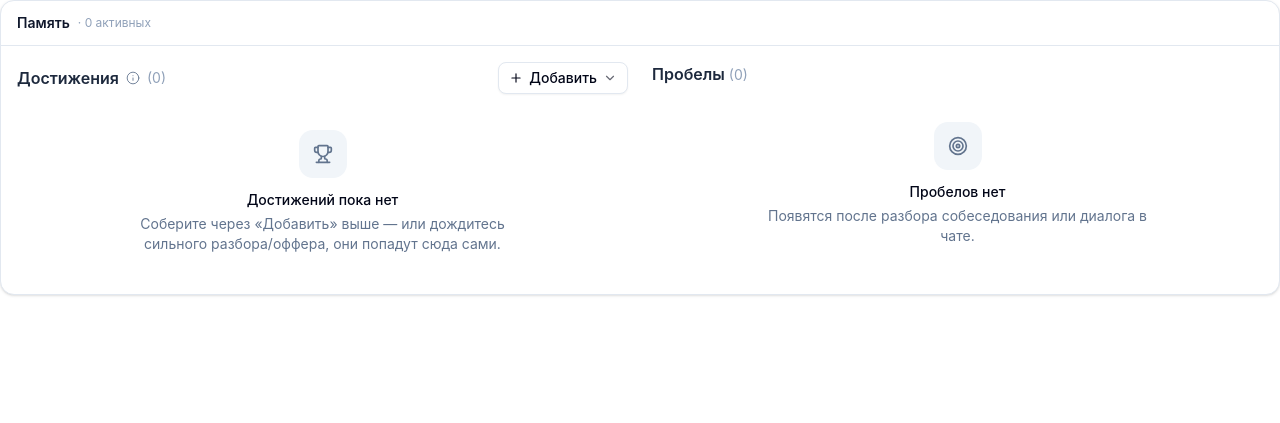
Test: FactsMemory (правка 2026-08-26: Достижения+Пробелы, без Заметок) › пункт меню «Из разбора» раскрывает форму разбора, «Отмена» её скрывает
The width and height of the screenshot is (1280, 423).
Step 1. Press Enter in the button "Добавить", box [498,62,628,94]
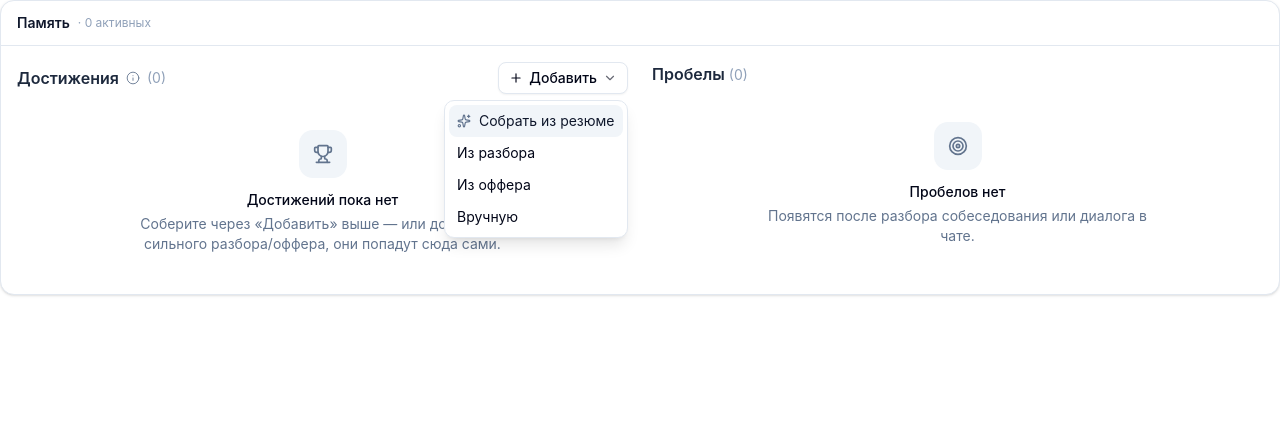
Step 2. Click the menu item "Из разбора" → [496, 152], box [457,144,535,161]
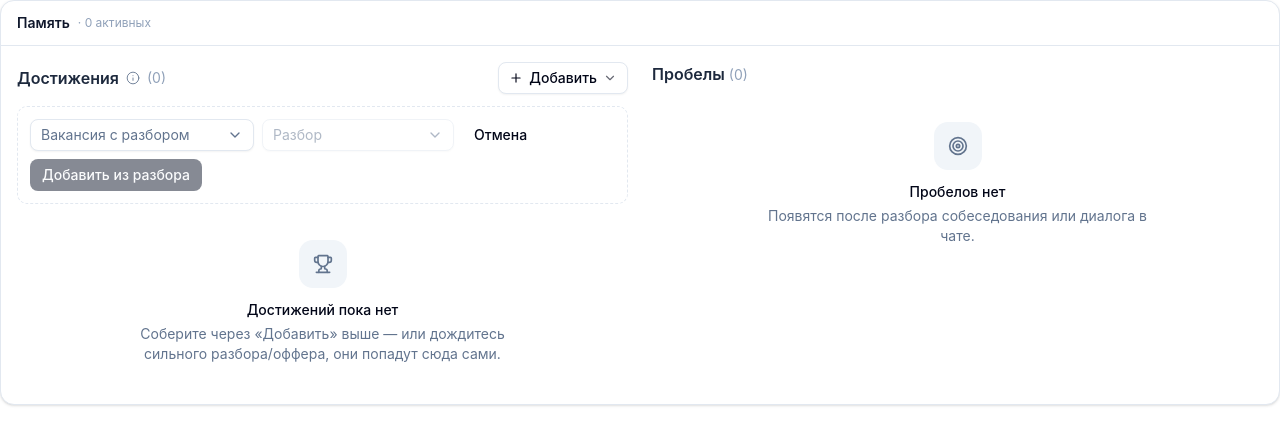
Result: the text "Вакансия с разбором" is shown at [41,125,190,145]
Step 3. Click the button "Отмена" → [501, 135], box [462,119,539,151]
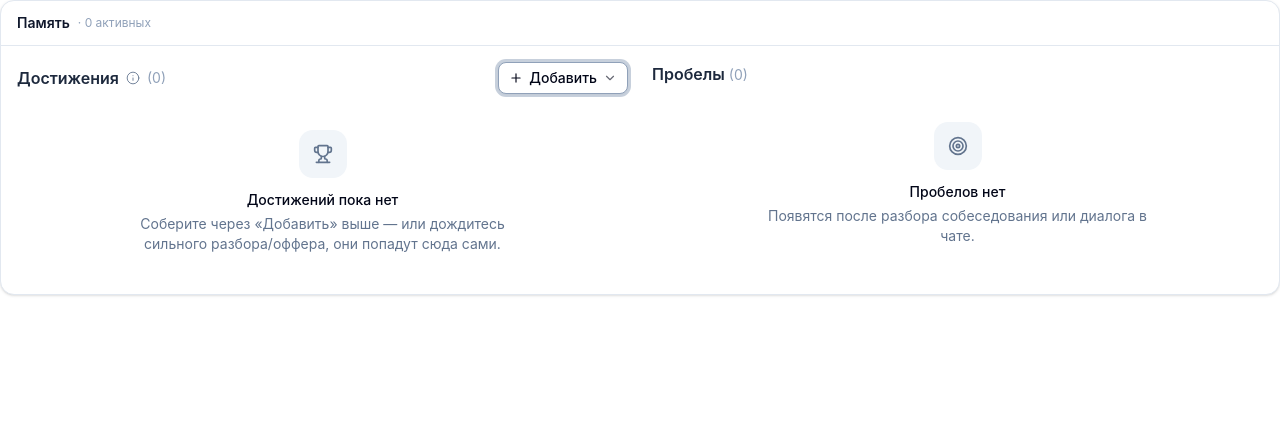
Result: the dropdown "Вакансия с разбором" is gone
